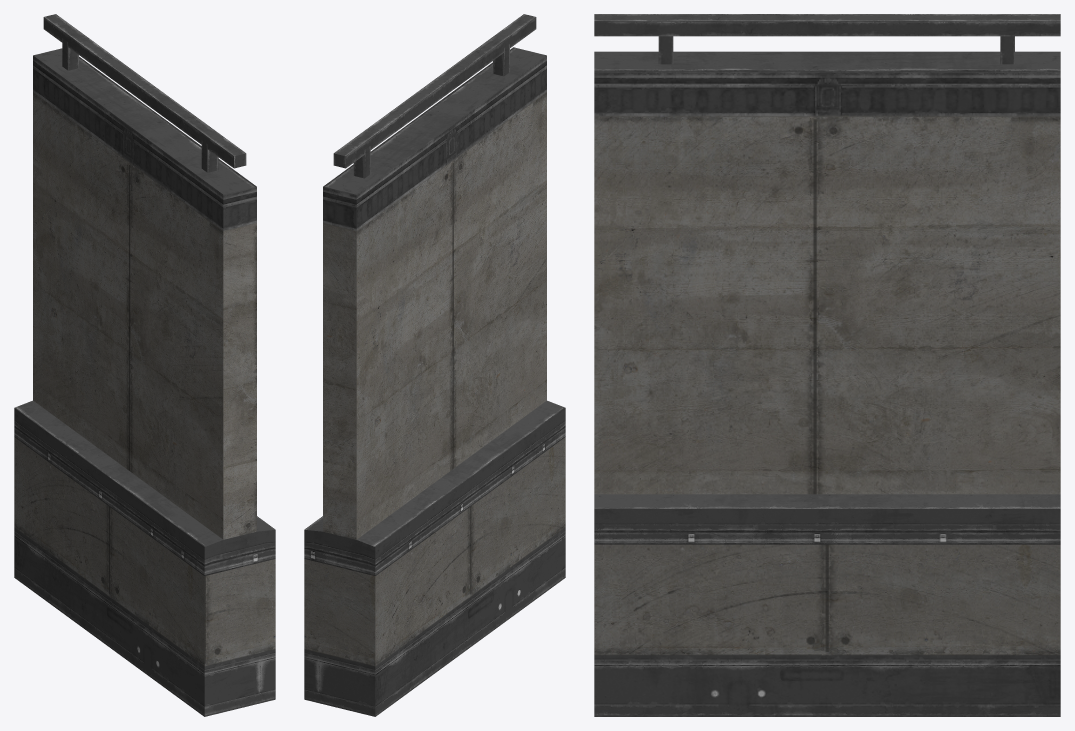
Rendered from CP_Fence_B_2m_01.fbx.
3 renders of one model, left to right at view 1: azimuth 30°, elevation 25°; view 2: azimuth 150°, elevation 25°; view 3: azimuth 270°, elevation 25°, orthographic. The views are drawn at different scales.
Parts seen in each view (by area): view 1: CP_Fence_B_2m_01; view 2: CP_Fence_B_2m_01; view 3: CP_Fence_B_2m_01.
Boxes of the visible parts, x1=… form: CP_Fence_B_2m_01: x1=14, y1=14, x2=275, y2=716; CP_Fence_B_2m_01: x1=304, y1=14, x2=565, y2=716; CP_Fence_B_2m_01: x1=594, y1=14, x2=1060, y2=716.
Bounding box in the file's own units: 43.21 × 321 × 200.
